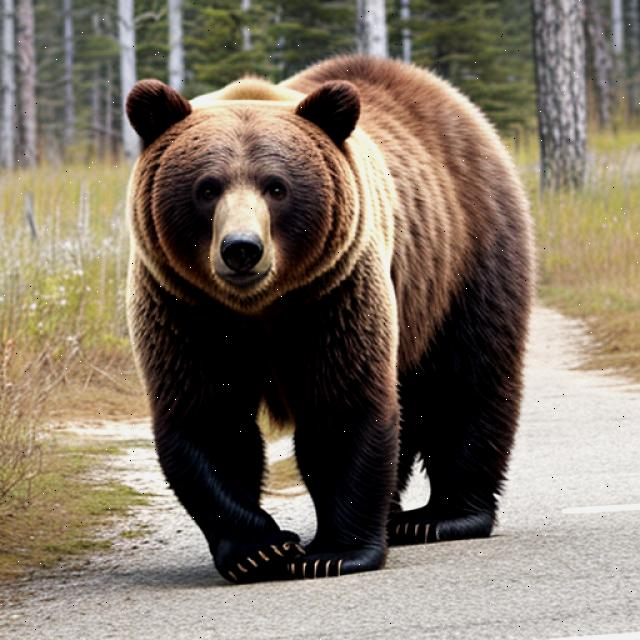bear: (102, 67, 389, 301)
